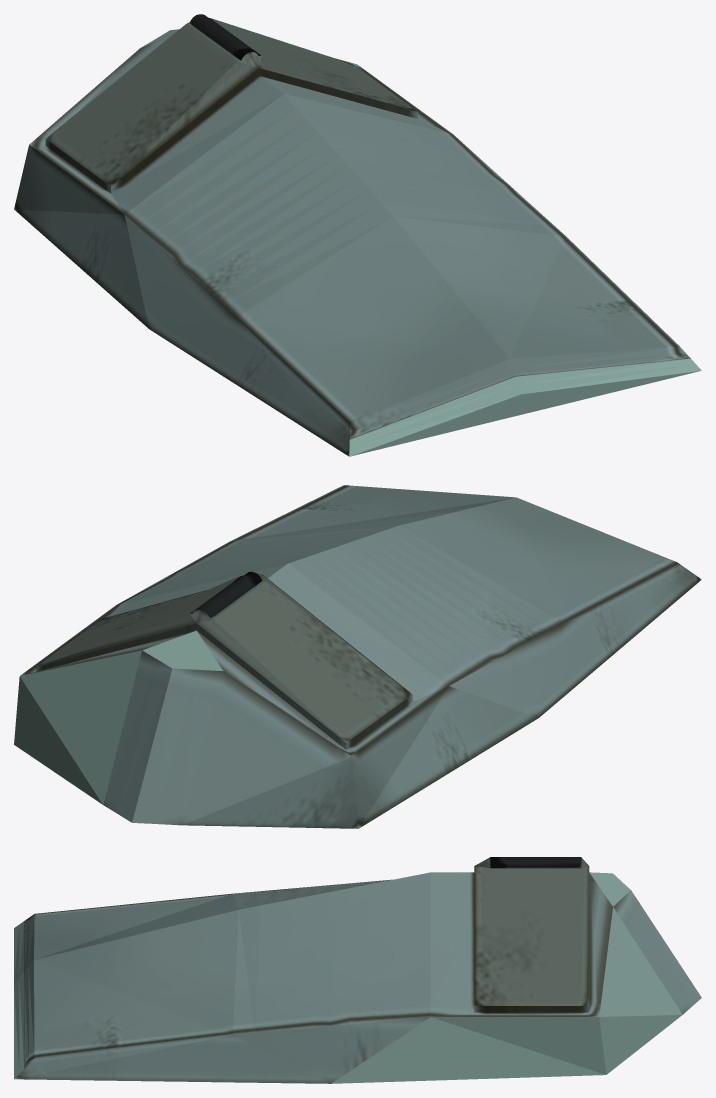
Rendered from Mouse.fbx.
3 views of the same model, one above another, from view 1: azimuth 30°, elevation 25°; view 2: azimuth 150°, elevation 25°; view 3: azimuth 270°, elevation 25° (orthographic). The views are drawn at different scales.
Parts seen in each view (by area): view 1: MouseTexture; view 2: MouseTexture; view 3: MouseTexture.
Part boxes in pixels (left/top/right/bottom): MouseTexture: left=14, top=14, right=701, bottom=456; MouseTexture: left=14, top=485, right=701, bottom=828; MouseTexture: left=14, top=857, right=701, bottom=1083.
Bounding box in the file's own units: 24.22 × 9.91 × 42.96.
1 material, 1 textured.
